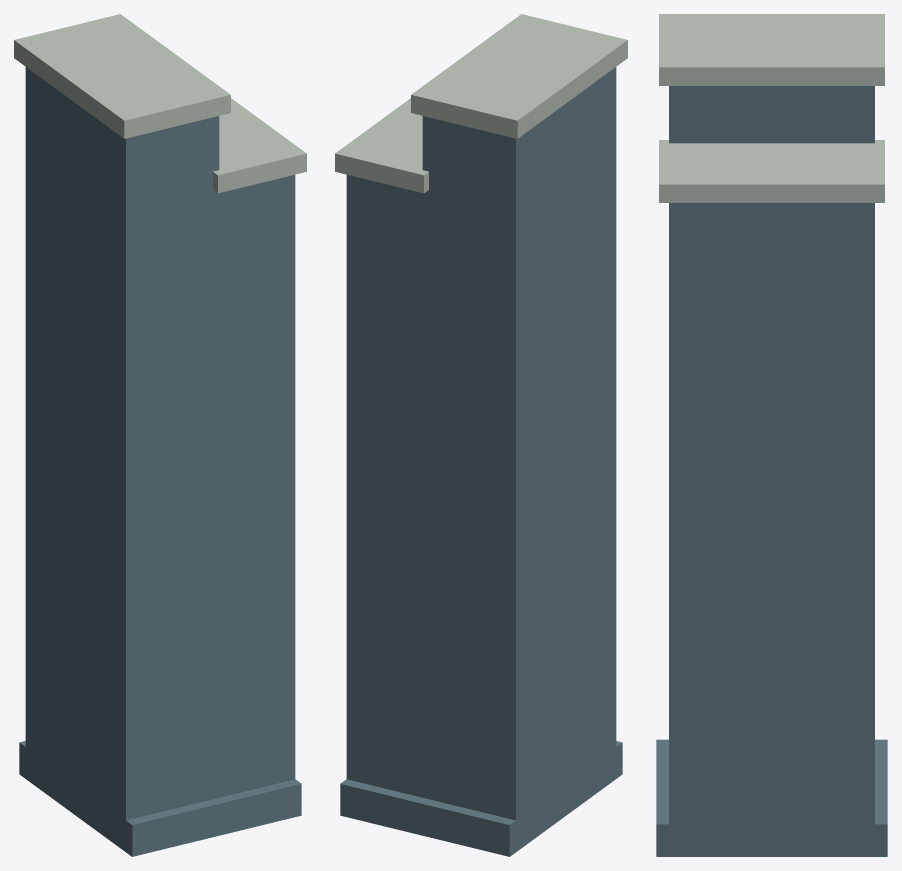
File: wall_gate_end.glb
3 renders of one model, left to right at view 1: azimuth 30°, elevation 25°; view 2: azimuth 150°, elevation 25°; view 3: azimuth 270°, elevation 25°, orthographic. The views are drawn at different scales.
Parts seen in each view (by area): view 1: WallGateEnd / Stone, WallGateEnd / Coping; view 2: WallGateEnd / Stone, WallGateEnd / Coping; view 3: WallGateEnd / Stone, WallGateEnd / Coping.
Part boxes in pixels (x1,y1,x2,y2): WallGateEnd / Stone: (19,67,301,856); WallGateEnd / Coping: (14,14,306,193); WallGateEnd / Stone: (340,67,622,856); WallGateEnd / Coping: (335,14,627,193); WallGateEnd / Stone: (656,86,887,856); WallGateEnd / Coping: (659,14,884,202).
Size of the model in its own units: 0.84 by 3.24 by 0.9.
